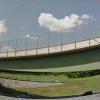Bridge: (4, 31, 100, 80)
